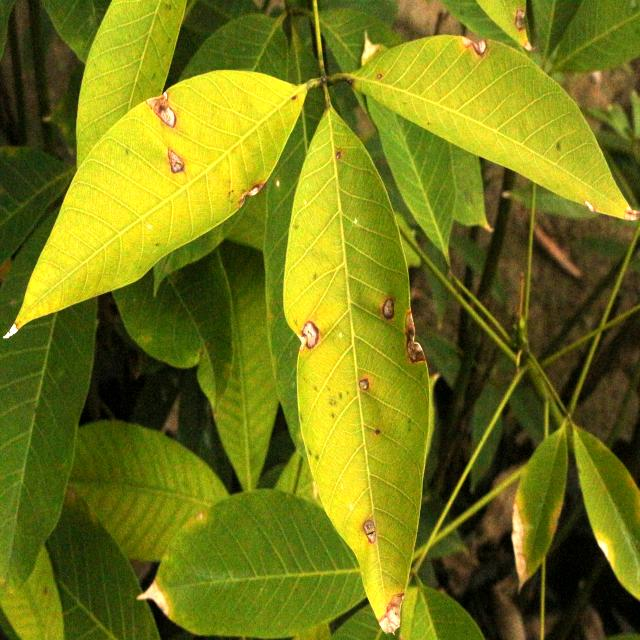Colletotrichum: (136, 580, 169, 616), (303, 320, 319, 349), (169, 150, 185, 174), (363, 520, 377, 544), (382, 297, 395, 321), (359, 377, 369, 392), (377, 74, 382, 80)
Leaf-Blight: (511, 505, 528, 593), (405, 310, 426, 363), (378, 594, 403, 634), (145, 92, 174, 125), (238, 187, 260, 208), (462, 37, 486, 56)
